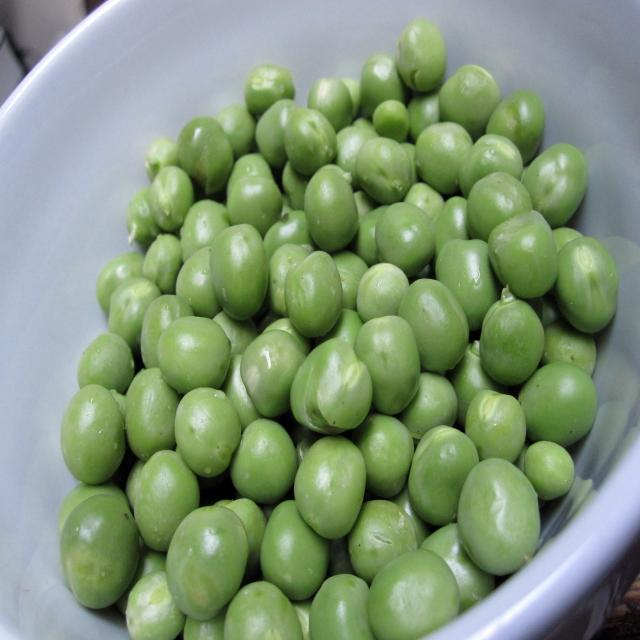pea: (70, 96, 608, 595)
